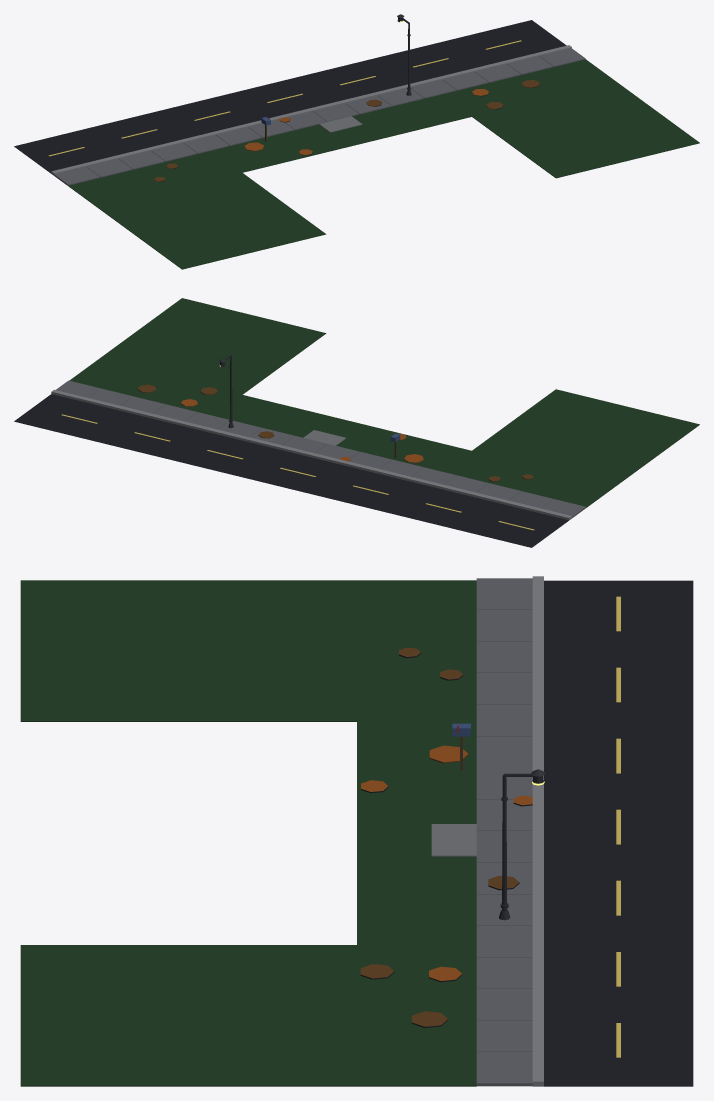
File: street_front.glb
3 renders of one model, top to bottom at view 1: azimuth 30°, elevation 25°; view 2: azimuth 150°, elevation 25°; view 3: azimuth 270°, elevation 25°, orthographic. The views are drawn at different scales.
Visible parts, largest first — view 1: geo_street_ground; view 2: geo_street_ground; view 3: geo_street_ground, prop_street_front_streetlight.
Part boxes in pixels (bbox=[...]): geo_street_ground: bbox=[14, 20, 699, 269]; geo_street_ground: bbox=[14, 298, 699, 547]; geo_street_ground: bbox=[20, 576, 693, 1086]; prop_street_front_streetlight: bbox=[499, 769, 545, 920].
Bounding box in the file's own units: 32 × 4.45 × 18.
